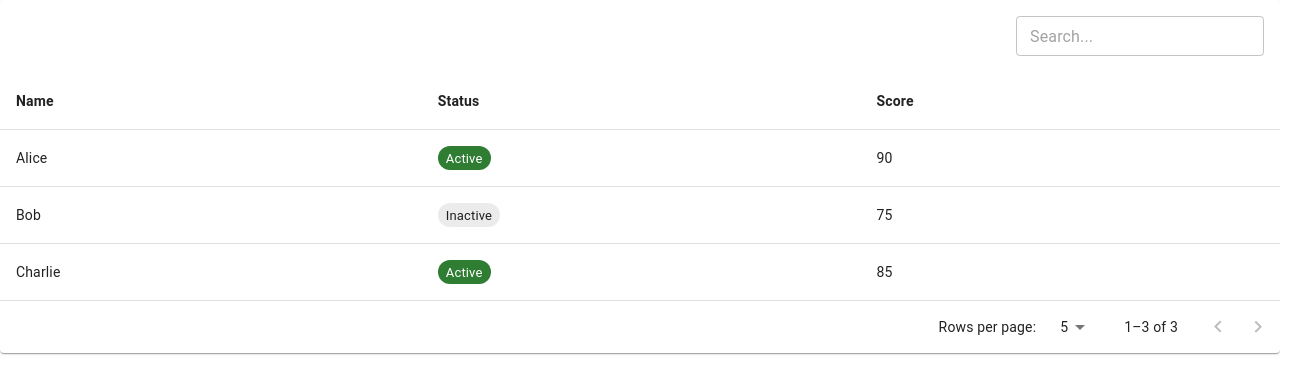
it: DataTable › filters rows based on search
Type "Alice" into the field with placeholder "Search...".
click(1140, 36); type("Alice")  # box [1016,16,1264,56]
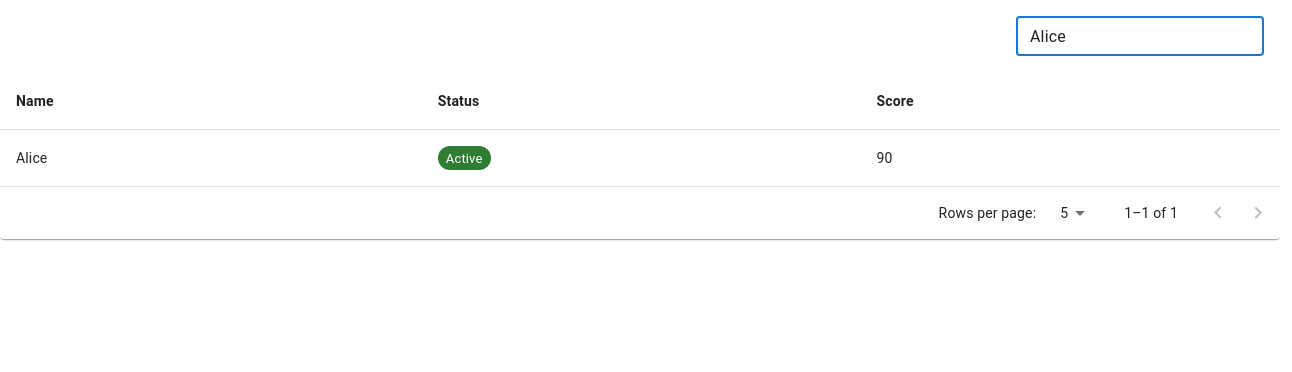
Expected: the text "Alice" is shown, [0,130,422,187]
Now the text "Bob" is gone
